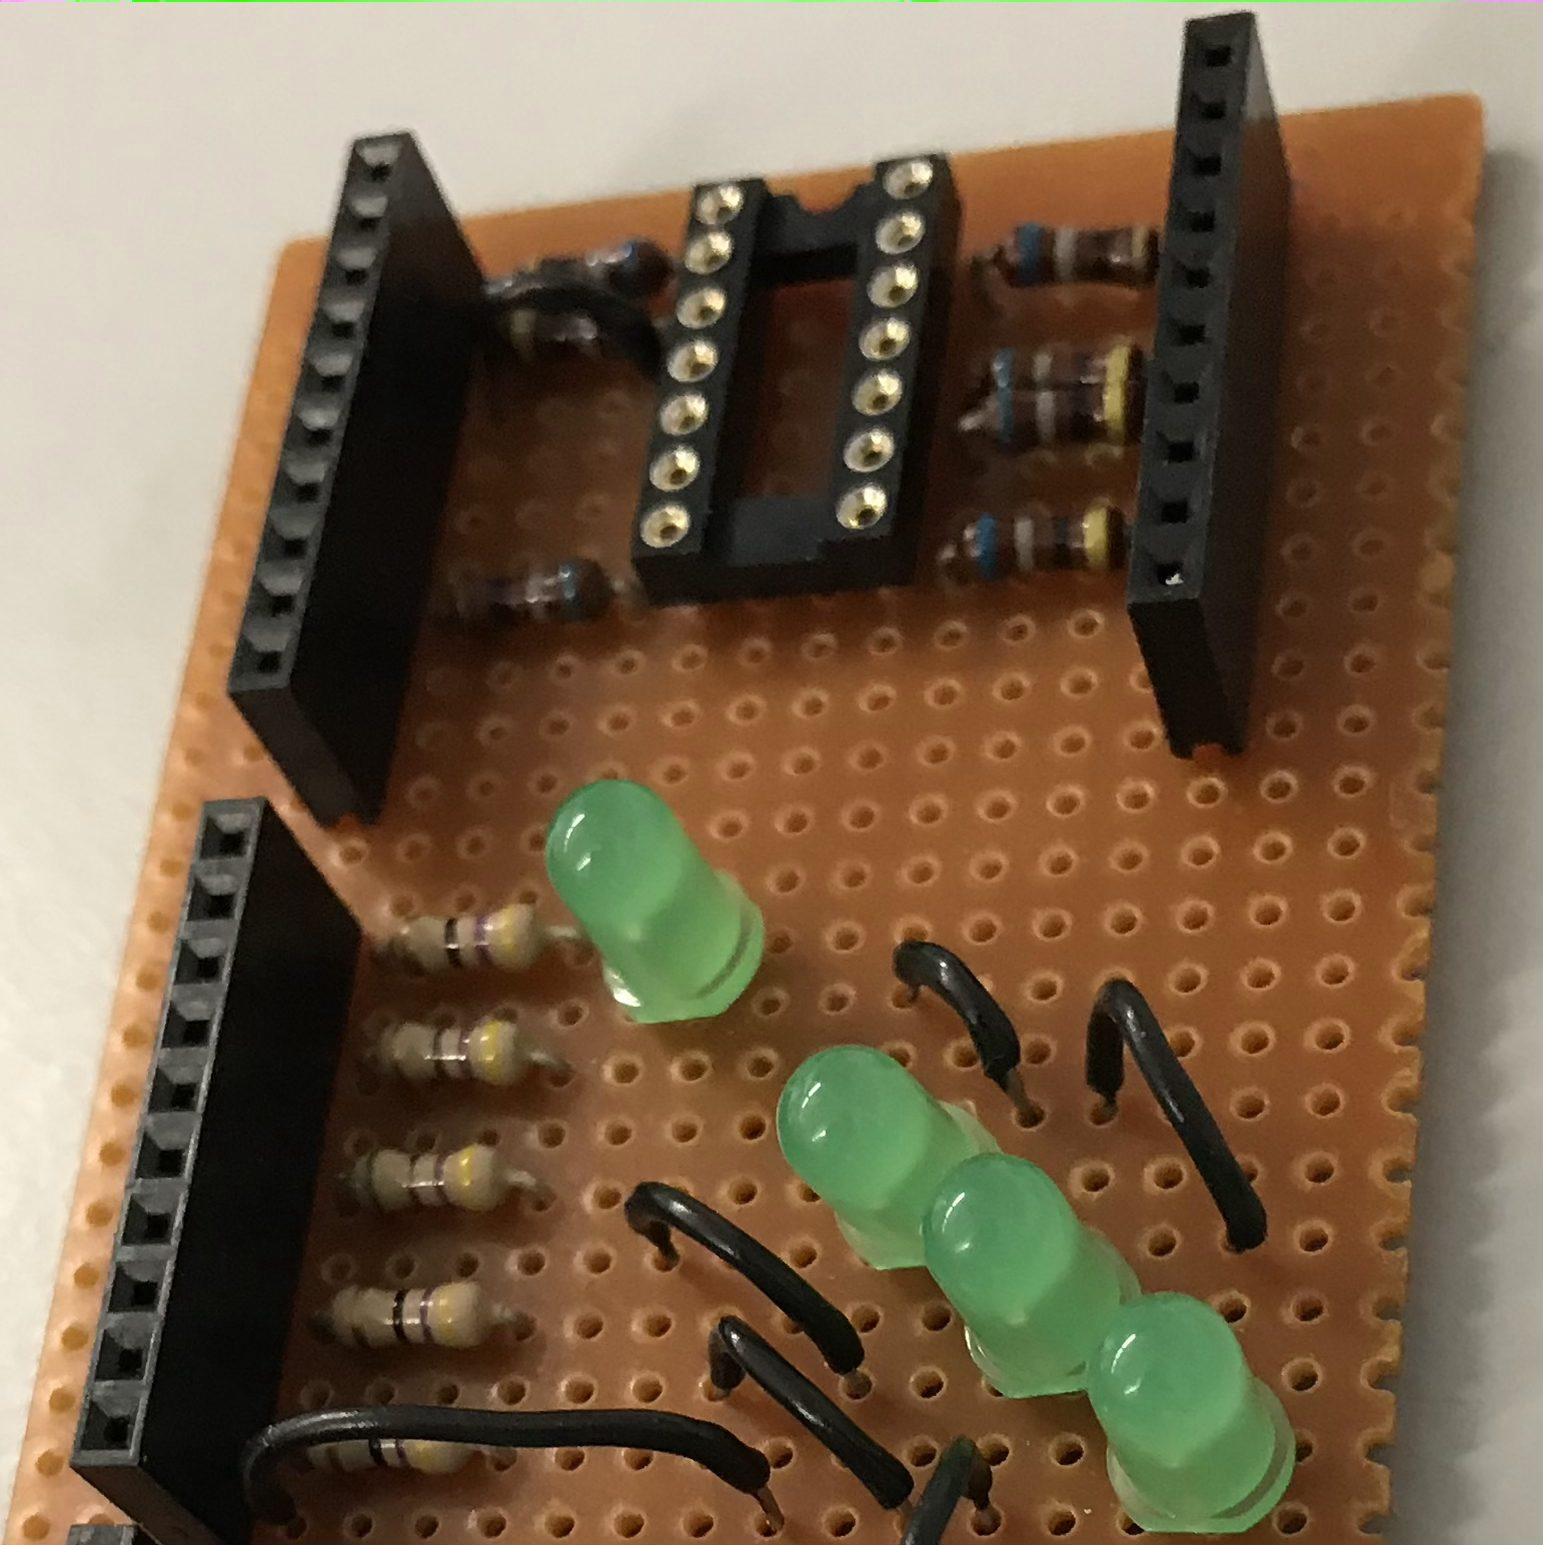LED: (536, 770, 774, 1030), (916, 1144, 1147, 1405), (1078, 1289, 1307, 1538), (771, 1042, 1012, 1276)
Resistor: (285, 1399, 487, 1481), (374, 893, 560, 982), (430, 553, 620, 636), (978, 211, 1169, 294), (343, 1138, 524, 1226), (324, 1276, 510, 1361), (942, 499, 1133, 580), (366, 1015, 548, 1095), (968, 380, 1154, 457), (496, 229, 677, 305), (966, 338, 1160, 399), (493, 300, 663, 368)
